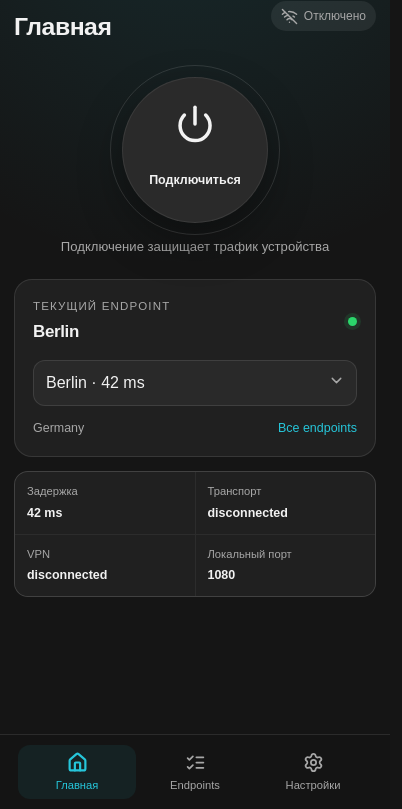
Test case: shared native client shell › exposes an actionable reproducible test mode with known artifact paths
Click the button with test id "nav-settings": (313, 772) [254,745,372,799]
(page scrolled)
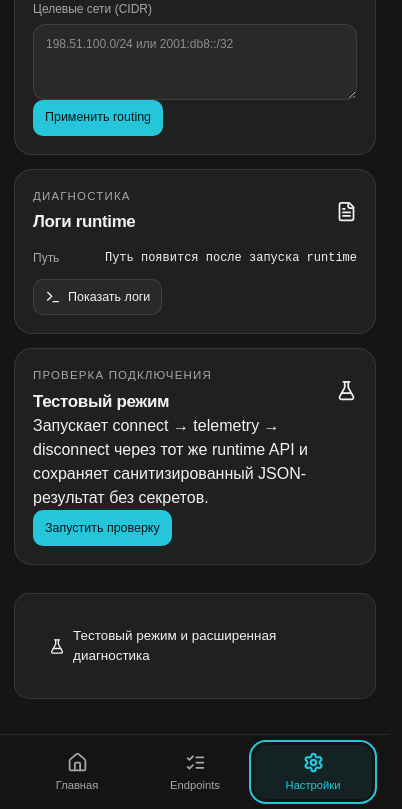
expect the button with test id "test-mode-run" is enabled: met
Click the button with test id "test-mode-run": (102, 528) [33,510,172,546]
(page scrolled)
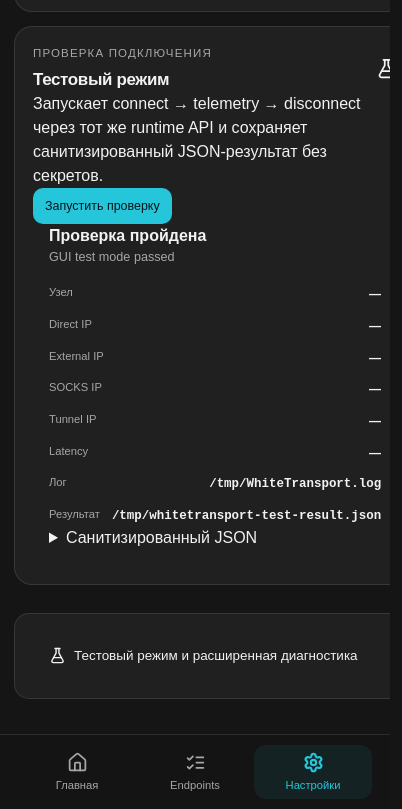
expect the element with test id "test-mode-result" shows "whitetransport-test-result.json": met, box [112,509,381,523]
